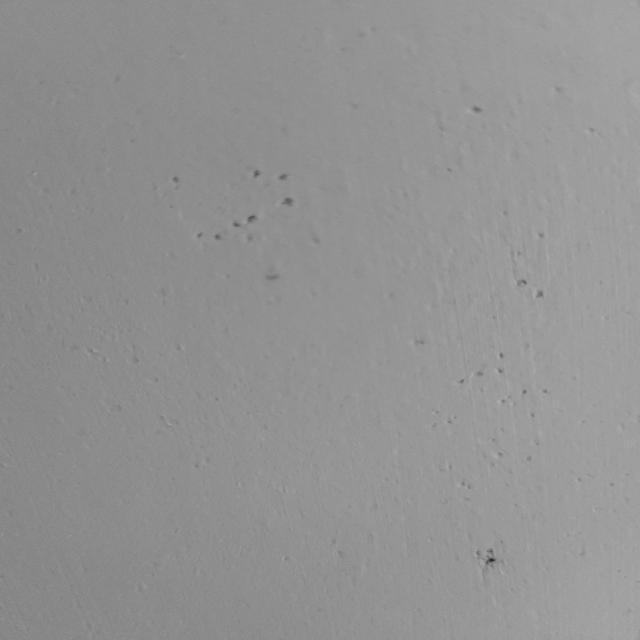rough and patchy surface: (87, 123, 597, 474), (407, 474, 551, 640)
